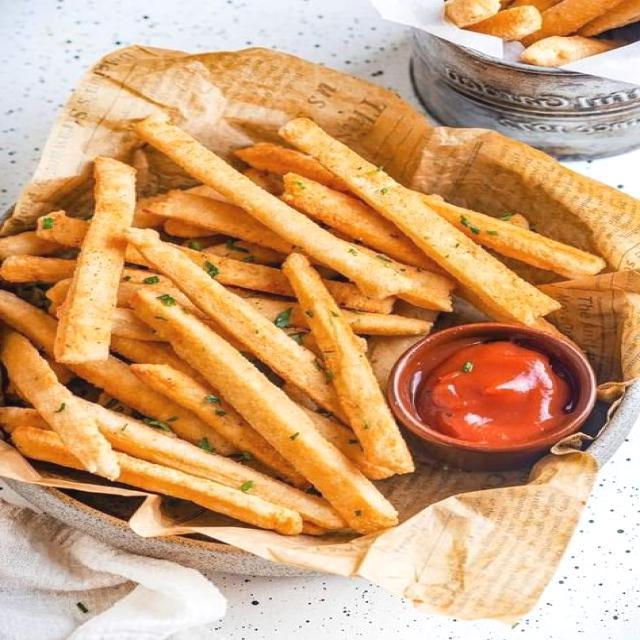kentang goreng: (0, 118, 610, 539)
